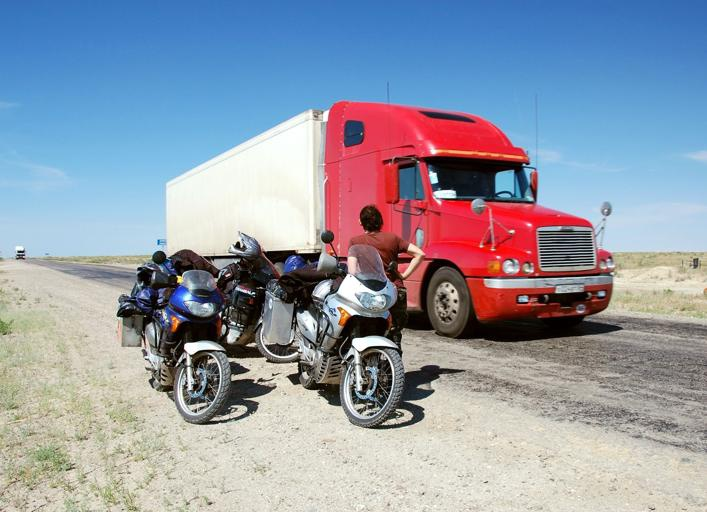non-vehicle: (285, 231, 409, 430), (117, 249, 234, 420), (214, 235, 268, 346)
